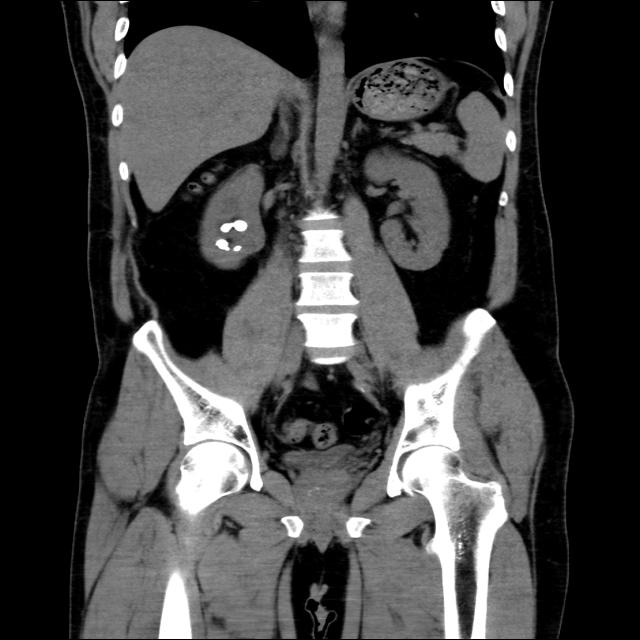kidneystone: (221, 220, 248, 232), (215, 239, 229, 251), (234, 245, 243, 251)
